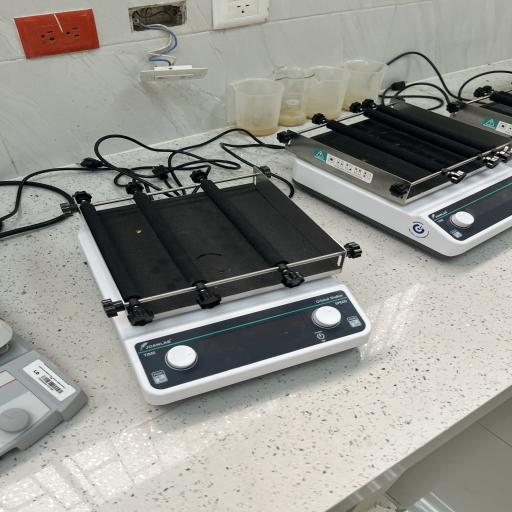Agitador_Orbital_DLAB: (58, 162, 385, 414)
